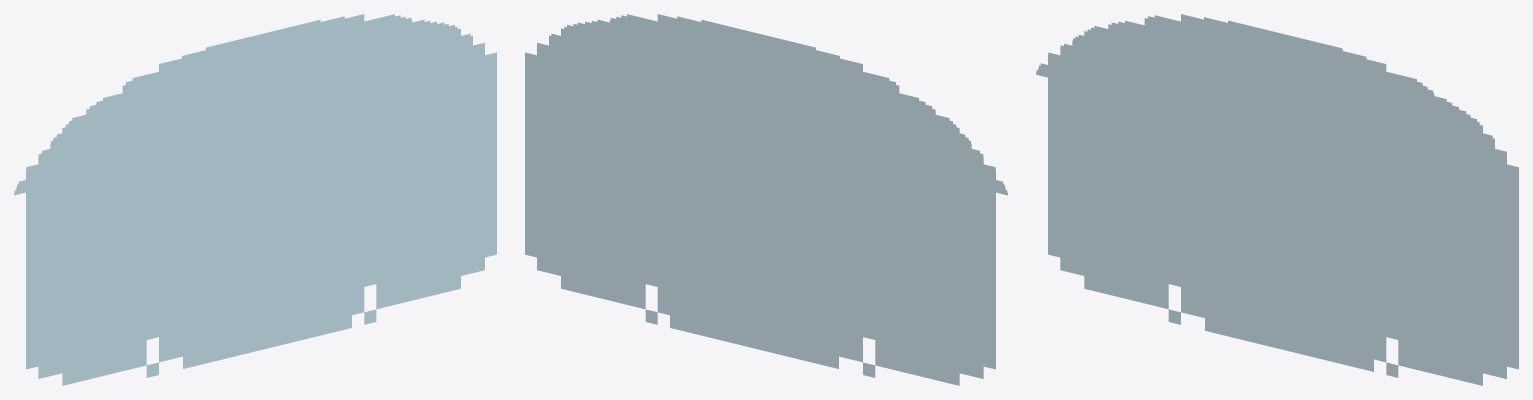
Rendered from wp_water_177.obj.
The picture shows the model from 3 angles, left to right: view 1: azimuth 30°, elevation 25°; view 2: azimuth 150°, elevation 25°; view 3: azimuth 330°, elevation 25°; orthographic projection.
Bounding box in the file's own units: 0.5855 × 0.366 × 0.
Materials: 1 (1 with a texture image).
